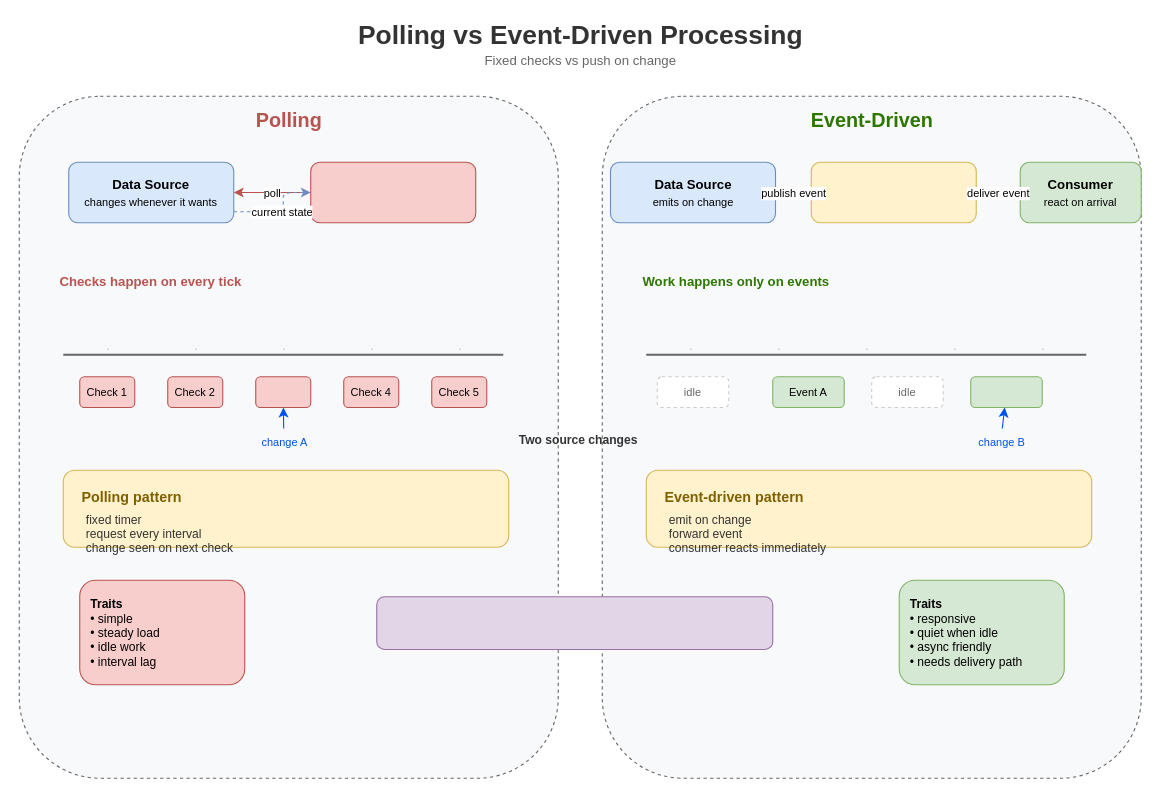
This 1161x798 diagram has some shape labels left out. Here are the shapes that lost their labels. From the top down, the centre of each, then its label:
At point 393,192: "Polling Client check every N ms".
At point 893,192: "Event Channel callback / queue / broker".
At point 283,392: "Check 3".
At point 1006,392: "Event B".
At point 574,623: "Fixed cadence vs push on change".
